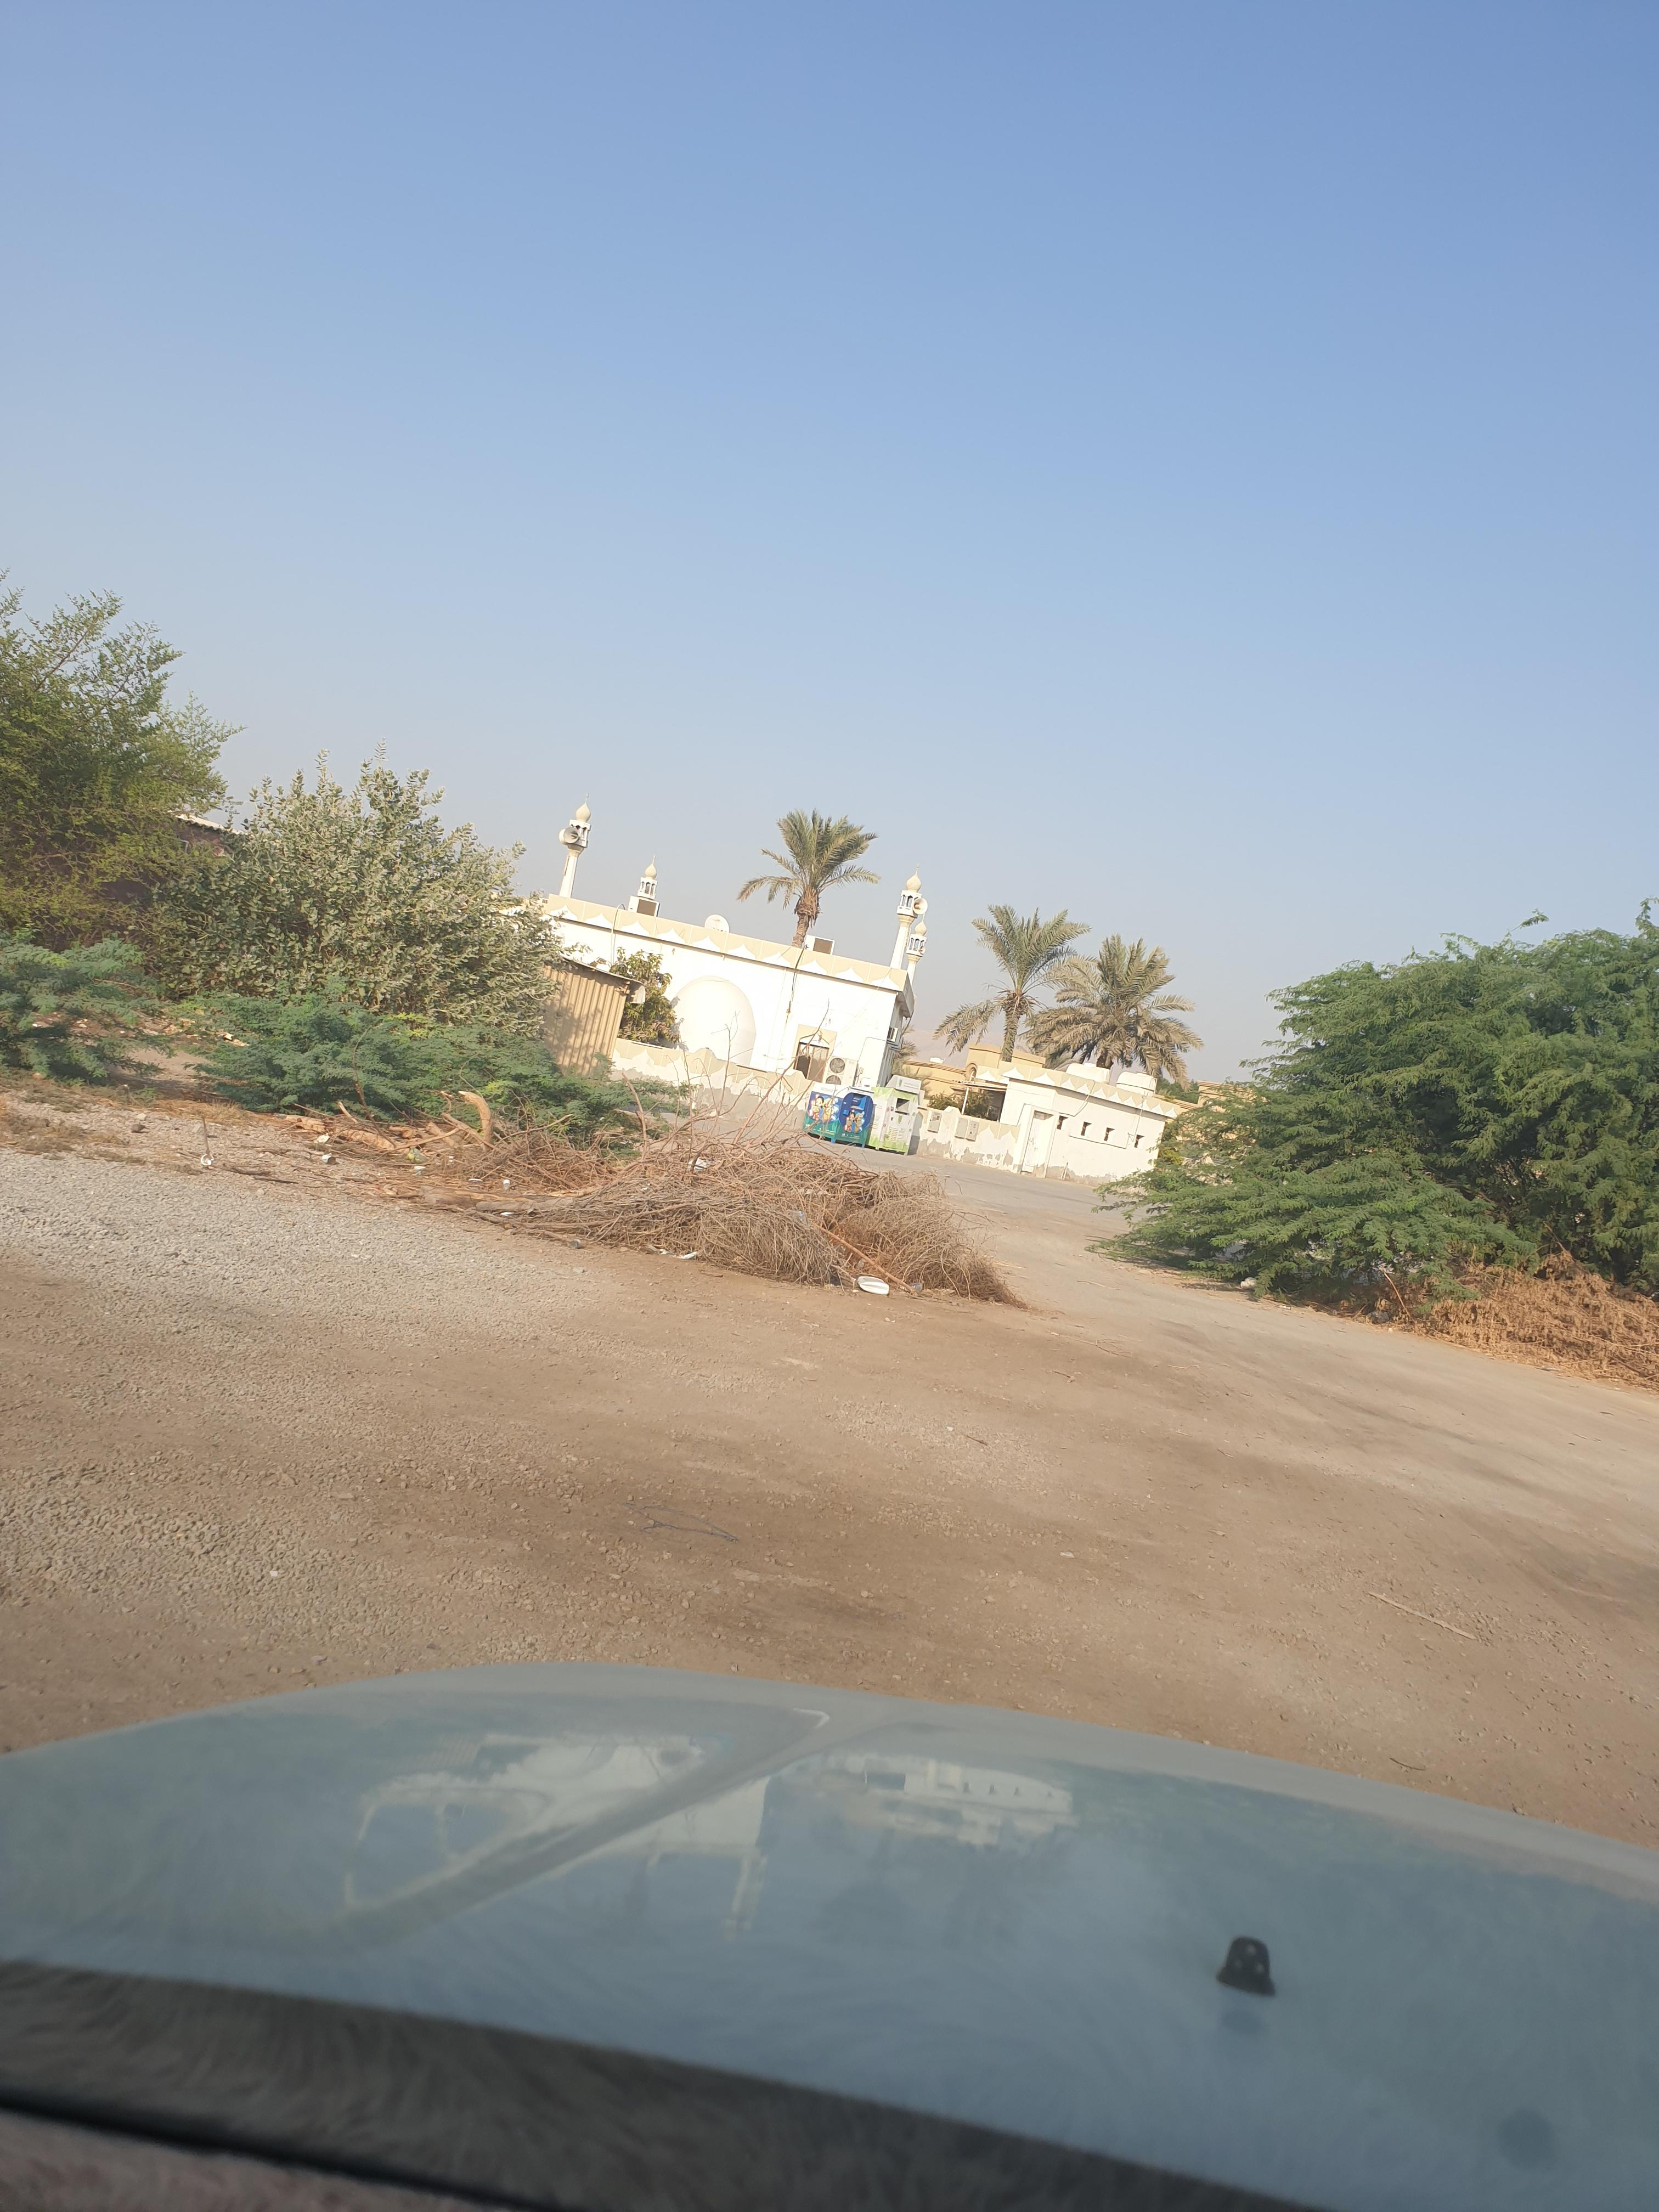fallen_trees: (484, 1106, 1080, 1322), (638, 1186, 1114, 1343), (385, 1148, 810, 1275), (871, 1148, 1080, 1341), (549, 1195, 845, 1322), (951, 1228, 1061, 1336)
